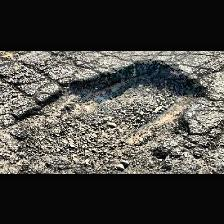pothole: (7, 57, 210, 172)
